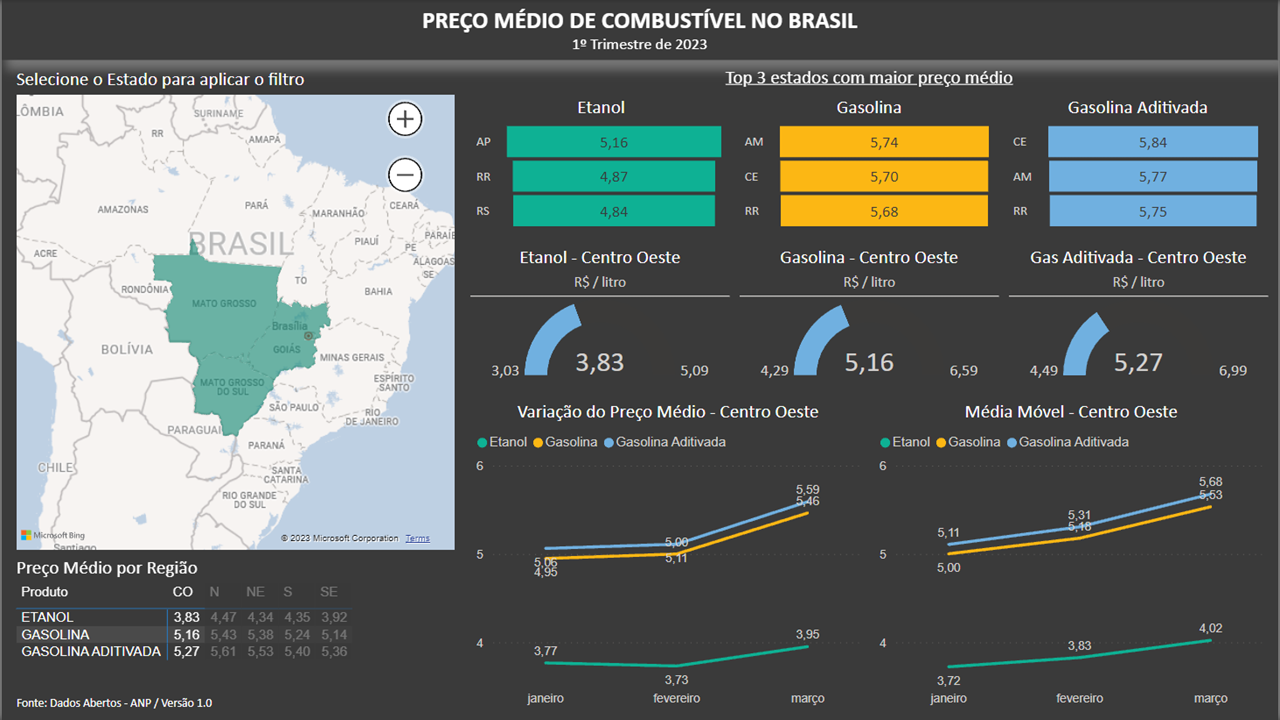

Layout of this report page (visuals, bound fields, positions):
{"tool":"powerbi","page":{"name":"Preço Médio","canvas":[1280,720],"ordinal":0},"visuals":[{"type":"lineChart","fields":{"Category":["preco_tratado.Data_Coleta.Variation.Hierarquia de datas.Mês","preco_tratado.Data_Coleta.Variation.Hierarquia de datas.Dia"],"Y":["Medidas.MediaNacEtanol","Medidas.MediaNacGasComum","Medidas.MediaNacGasAdit"]},"box":[470.9,395,395,320],"z":0},{"type":"lineChart","fields":{"Y":["Medidas.Média móvel de MediaNacEtanol","Medidas.Média móvel de MediaNacGasComum","Medidas.Média móvel de MediaNacGasAdit"],"Category":["preco_tratado.Data_Coleta.Variation.Hierarquia de datas.Mês","preco_tratado.Data_Coleta.Variation.Hierarquia de datas.Dia"]},"box":[874.9,395,395.1,320],"z":1000},{"type":"filledMap","title":"Selecione o Estado para aplicar o filtro","fields":{"Category":["preco_tratado.Estado"]},"box":[10,65,450,490],"z":2000},{"type":"pivotTable","fields":{"Rows":["preco_tratado.Produto"],"Columns":["preco_tratado.Regiao"],"Values":["Medidas.MediaValorVenda"]},"box":[10,554.7,450,123.7],"z":3000},{"type":"funnel","title":"Gasolina ","fields":{"Category":["TOPMediaGas.Estado"],"Y":["Avg(TOPMediaGas.GAS)"]},"box":[740.2,95,260,140.1],"z":4000},{"type":"textbox","box":[0,0,1280,60],"z":5000},{"type":"funnel","title":"Gasolina Aditivada","fields":{"Category":["TOPMediaGasAdit.Estado"],"Y":["Avg(TOPMediaGasAdit.GAS_ADIT)"]},"box":[1009.6,95,260.7,140.1],"z":6000},{"type":"funnel","title":"Etanol","fields":{"Category":["TOPMediaEtanol.Estado"],"Y":["Avg(TOPMediaEtanol.ETANOL)"]},"box":[470.8,95,260.7,140.1],"z":7000},{"type":"textbox","title":"Top 3 estados com maior preço médio","box":[470.2,65,800.1,30],"z":8000},{"type":"textbox","box":[10,690,225.5,25.9],"z":9000},{"type":"textbox","box":[470,245.1,260,52],"z":10000},{"type":"gauge","fields":{"Y":["Medidas.MediaNacEtanol"],"MinValue":["Medidas.MinMediaNacEtanol"],"MaxValue":["Medidas.MaxMediaNacEtanol"]},"box":[470,297.6,259.7,87.5],"z":11000},{"type":"textbox","box":[740,245,260,52],"z":12000},{"type":"gauge","fields":{"Y":["Medidas.MediaNacGasComum"],"MinValue":["Medidas.MinMediaNacGas"],"MaxValue":["Medidas.MaxMediaNacGas"]},"box":[740,297,259.7,87.5],"z":13000},{"type":"textbox","box":[1010.7,245,260,52],"z":14000},{"type":"gauge","fields":{"Y":["Medidas.MediaNacGasAdit"],"MinValue":["Medidas.MinMediaNacGasAdt"],"MaxValue":["Medidas.MaxMediaNacGasAdt"]},"box":[1010.7,297,259.7,87.5],"z":15000}]}

Visuals, with their boxes in screenshot pixels (x1, y1, x2, y2), scaled from the page's 1280x720 canvas onto the 1280x720 screenshot:
lineChart - preco_tratado.Data_Coleta.Variation.Hierarquia de datas.Mês x preco_tratado.Data_Coleta.Variation.Hierarquia de datas.Dia: 471, 395, 866, 715
lineChart - Medidas.Média móvel de MediaNacEtanol x Medidas.Média móvel de MediaNacGasComum: 875, 395, 1270, 715
"Selecione o Estado para aplicar o filtro" filledMap: 10, 65, 460, 555
pivotTable - preco_tratado.Produto x preco_tratado.Regiao: 10, 555, 460, 678
"Gasolina " funnel: 740, 95, 1000, 235
textbox: 0, 0, 1279, 60
"Gasolina Aditivada" funnel: 1010, 95, 1270, 235
"Etanol" funnel: 471, 95, 732, 235
"Top 3 estados com maior preço médio" textbox: 470, 65, 1270, 95
textbox: 10, 690, 236, 716
textbox: 470, 245, 730, 297
gauge - Medidas.MediaNacEtanol x Medidas.MinMediaNacEtanol: 470, 298, 730, 385
textbox: 740, 245, 1000, 297
gauge - Medidas.MediaNacGasComum x Medidas.MinMediaNacGas: 740, 297, 1000, 384
textbox: 1011, 245, 1271, 297
gauge - Medidas.MediaNacGasAdit x Medidas.MinMediaNacGasAdt: 1011, 297, 1270, 384
